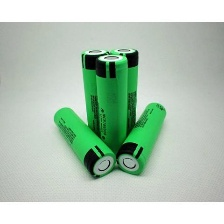battery: (51, 105, 118, 180), (116, 98, 168, 177), (93, 51, 130, 162), (78, 46, 110, 145), (108, 46, 140, 142)
